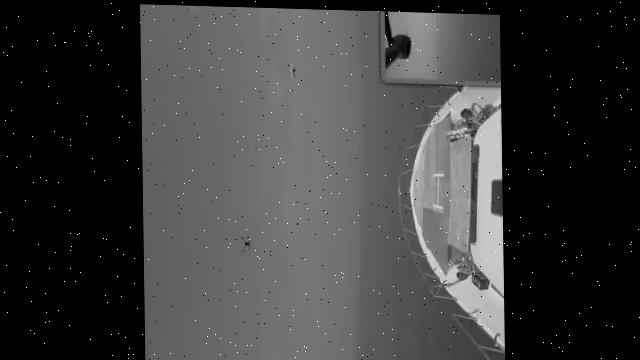drone: (229, 225, 256, 260), (283, 53, 300, 81)
